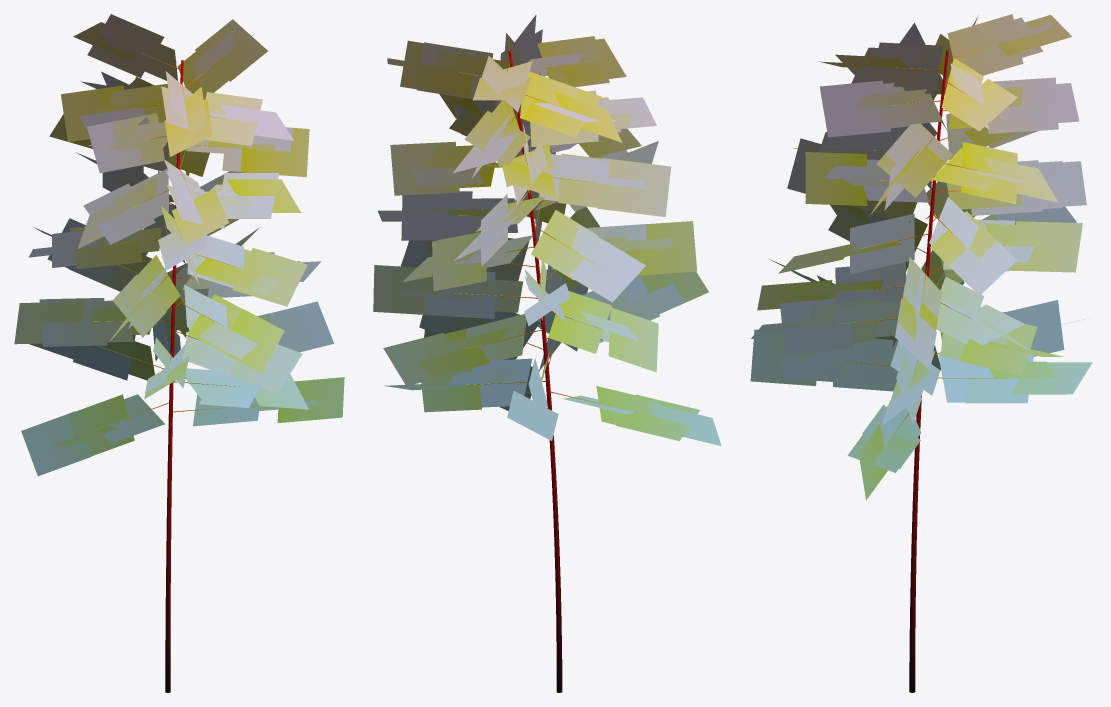
The model's file is bamboo_2.glb.
The picture shows the model from 3 angles, left to right: view 1: azimuth 30°, elevation 25°; view 2: azimuth 150°, elevation 25°; view 3: azimuth 270°, elevation 25°; orthographic projection. The views are drawn at different scales.
Visible parts, largest first — view 1: bamboo_2_lod0; view 2: bamboo_2_lod0; view 3: bamboo_2_lod0.
Part boxes in pixels (box(x1,y1,x2,y2)): bamboo_2_lod0: box(14, 14, 344, 692); bamboo_2_lod0: box(373, 14, 721, 692); bamboo_2_lod0: box(750, 14, 1092, 692).
Size of what is drawn, in the model's own units: 5.72 by 11.49 by 5.32.
